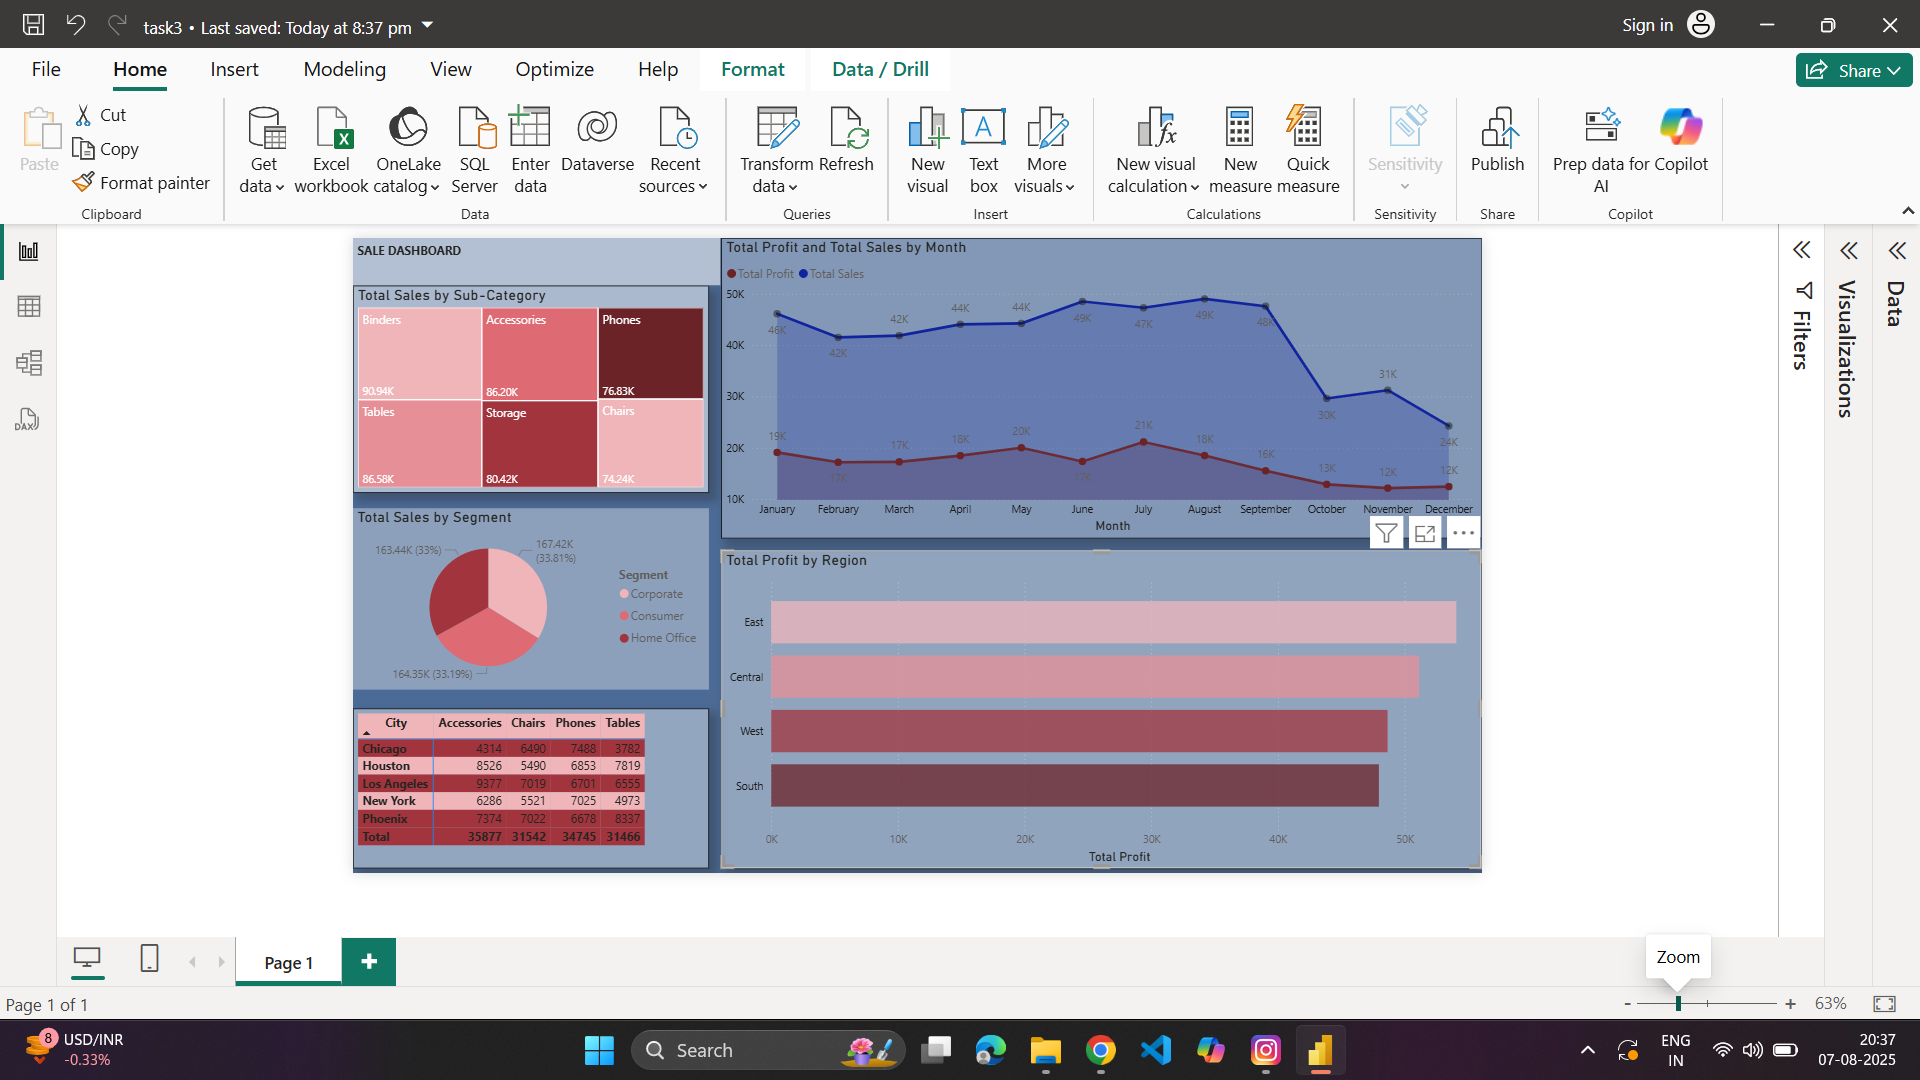

The page's visual inventory and layout, read from the dashboard file:
{"tool":"powerbi","page":{"name":"Page 1","canvas":[1280,720],"ordinal":0},"visuals":[{"type":"lineChart","fields":{"Category":["Sheet1.Order Date.Variation.Date Hierarchy.Month"],"Y":["Sheet1.Total Profit","Sheet1.Total Sales"]},"box":[416.7,0,863,340.7],"z":0},{"type":"barChart","fields":{"Category":["Sheet1.Region"],"Y":["Sheet1.Total Profit"]},"box":[416.7,353.7,863,361.1],"z":2000},{"type":"pieChart","fields":{"Category":["Sheet1.Segment"],"Y":["Sheet1.Total Sales"]},"box":[0,305.6,403.7,205.6],"z":3000},{"type":"treemap","fields":{"Values":["Sheet1.Total Sales"],"Group":["Sheet1.Sub-Category"]},"box":[0,53.7,403.7,235.2],"z":4000},{"type":"pivotTable","fields":{"Rows":["Sheet1.City"],"Values":["Sum(Sheet1.Profit)"],"Columns":["Sheet1.Sub-Category"]},"box":[0,533.3,403.7,181.5],"z":5000},{"type":"textbox","box":[0,0,416.7,53.7],"z":5001}]}

Visuals, with their boxes on the page's 1280x720 design canvas (x1, y1, x2, y2). These are canvas units, not pixel positions in the 1920x1080 screenshot, which may show the page scaled, cropped or inside an application window:
lineChart - Sheet1.Order Date.Variation.Date Hierarchy.Month x Sheet1.Total Profit: {"left": 417, "top": 0, "right": 1280, "bottom": 341}
barChart - Sheet1.Region x Sheet1.Total Profit: {"left": 417, "top": 354, "right": 1280, "bottom": 715}
pieChart - Sheet1.Segment x Sheet1.Total Sales: {"left": 0, "top": 306, "right": 404, "bottom": 511}
treemap - Sheet1.Total Sales x Sheet1.Sub-Category: {"left": 0, "top": 54, "right": 404, "bottom": 289}
pivotTable - Sheet1.City x Sum(Sheet1.Profit): {"left": 0, "top": 533, "right": 404, "bottom": 715}
textbox: {"left": 0, "top": 0, "right": 417, "bottom": 54}
